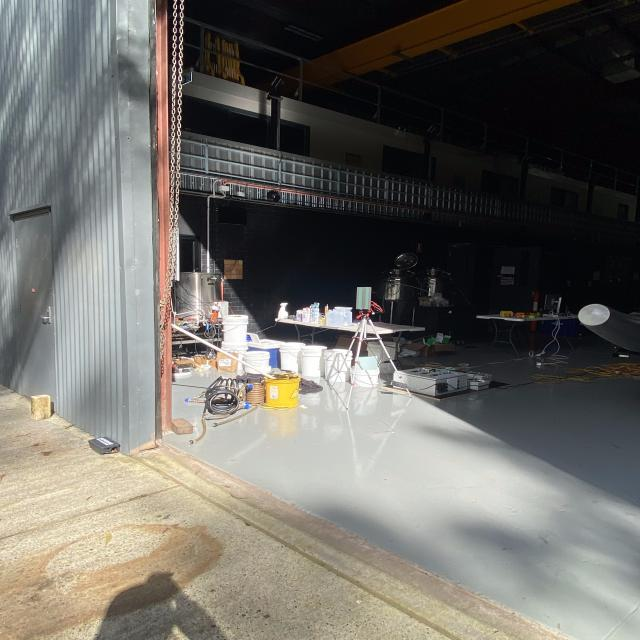matrix: (352, 284, 373, 314)
